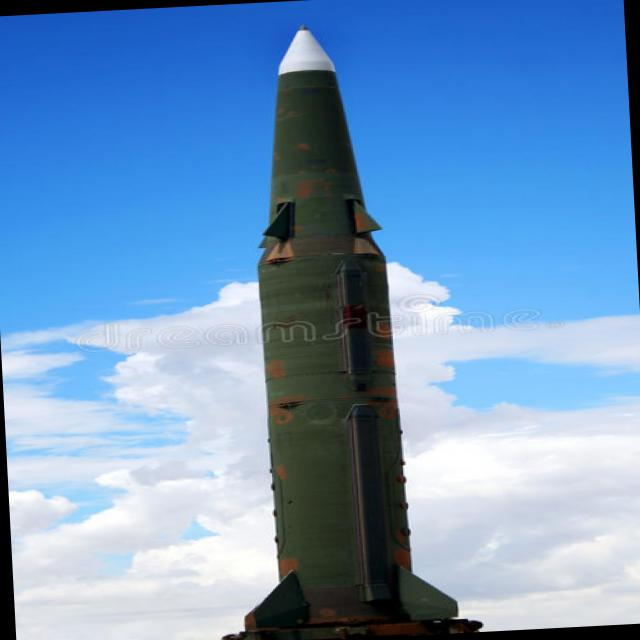rocket: (163, 4, 495, 638)
